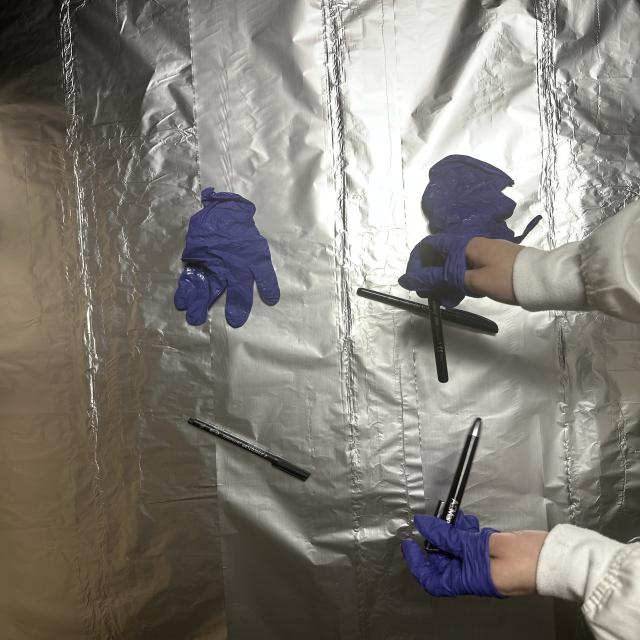glove_partial: (405, 507, 547, 600), (401, 230, 527, 311)
